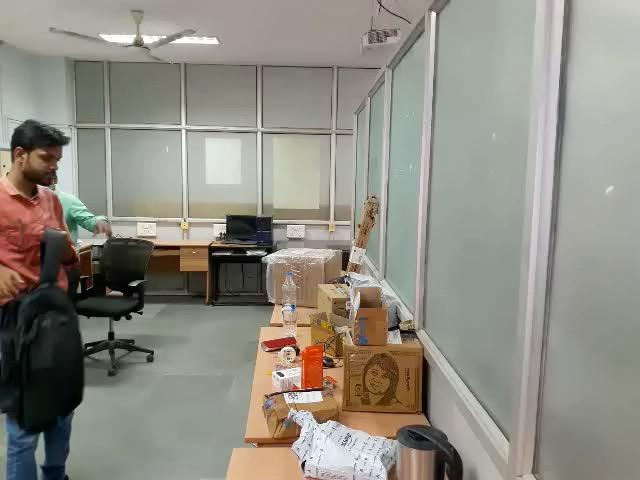Normal: (2, 117, 277, 480)
